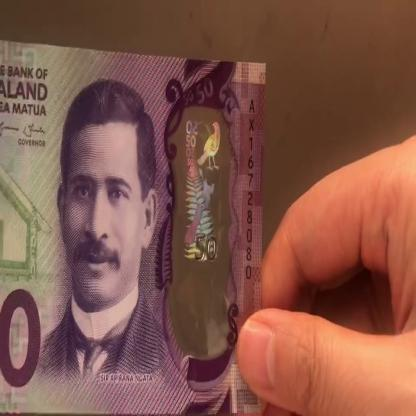50F: (179, 113, 224, 331)
